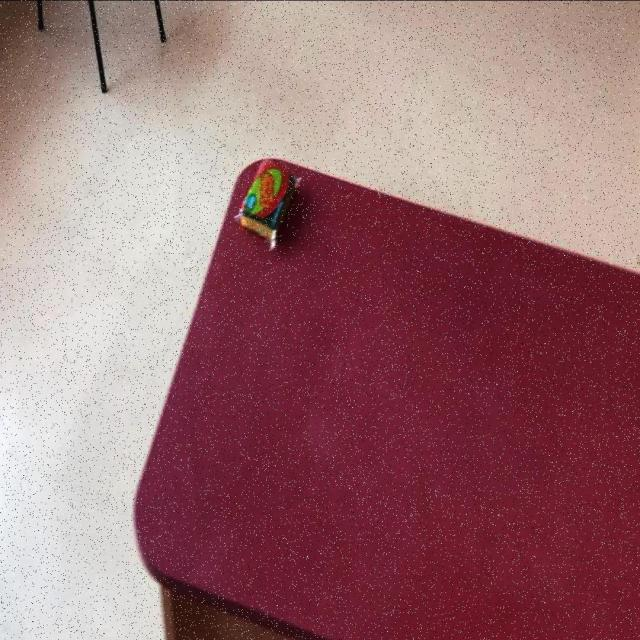Sponge: (232, 161, 302, 253)
